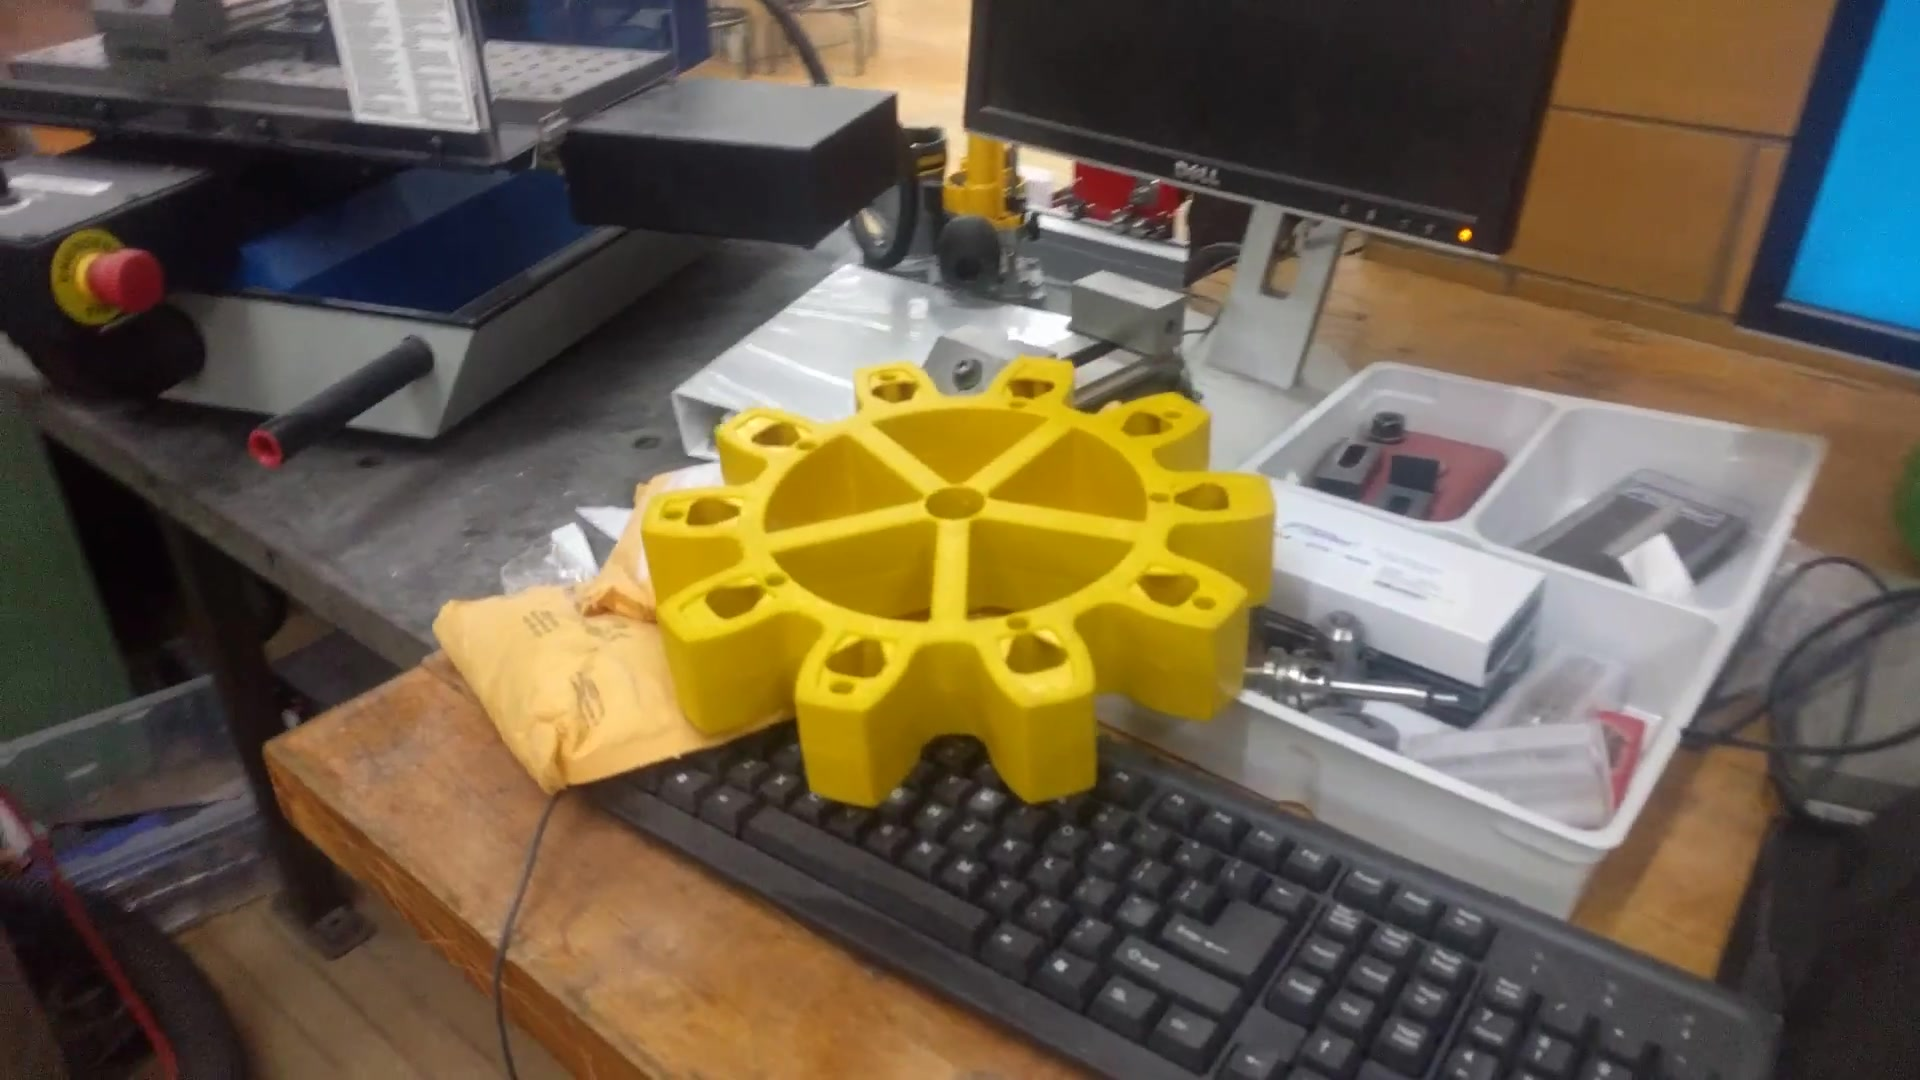gear: (618, 301, 1294, 858)
